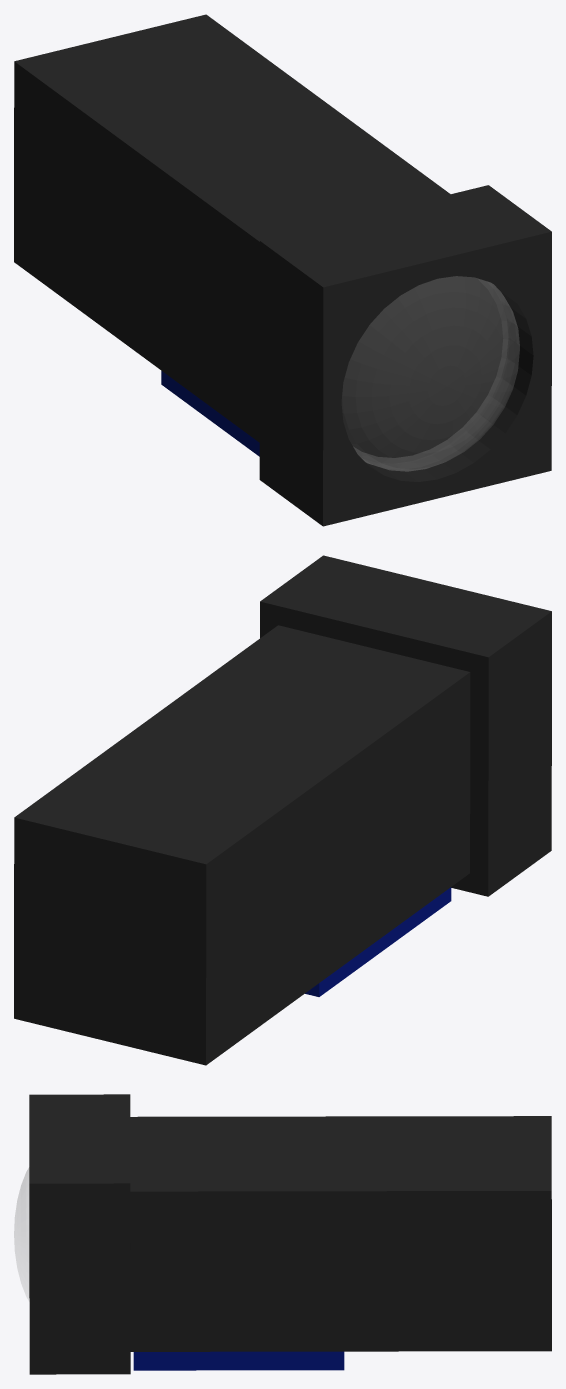
The model's file is daheng_camera.dae.
3 renders of one model, top to bottom at view 1: azimuth 30°, elevation 25°; view 2: azimuth 150°, elevation 25°; view 3: azimuth 270°, elevation 25°, orthographic. The views are drawn at different scales.
Visible parts, largest first — view 1: main body, front cap, lens, adapter; view 2: main body, front cap, adapter; view 3: main body, front cap, adapter, lens.
Part boxes in pixels (left/top/right/bottom): main body: left=14, top=14, right=450, bottom=442; front cap: left=259, top=185, right=551, bottom=526; lens: left=342, top=276, right=519, bottom=471; adapter: left=161, top=371, right=259, bottom=456; main body: left=14, top=625, right=470, bottom=1065; front cap: left=260, top=555, right=551, bottom=896; adapter: left=305, top=887, right=451, bottom=996; main body: left=130, top=1116, right=551, bottom=1351; front cap: left=29, top=1094, right=130, bottom=1374; adapter: left=133, top=1351, right=344, bottom=1370; lens: left=14, top=1168, right=29, bottom=1301.
Bounding box in the file's own units: 0.1 × 0.2554 × 0.1048.
